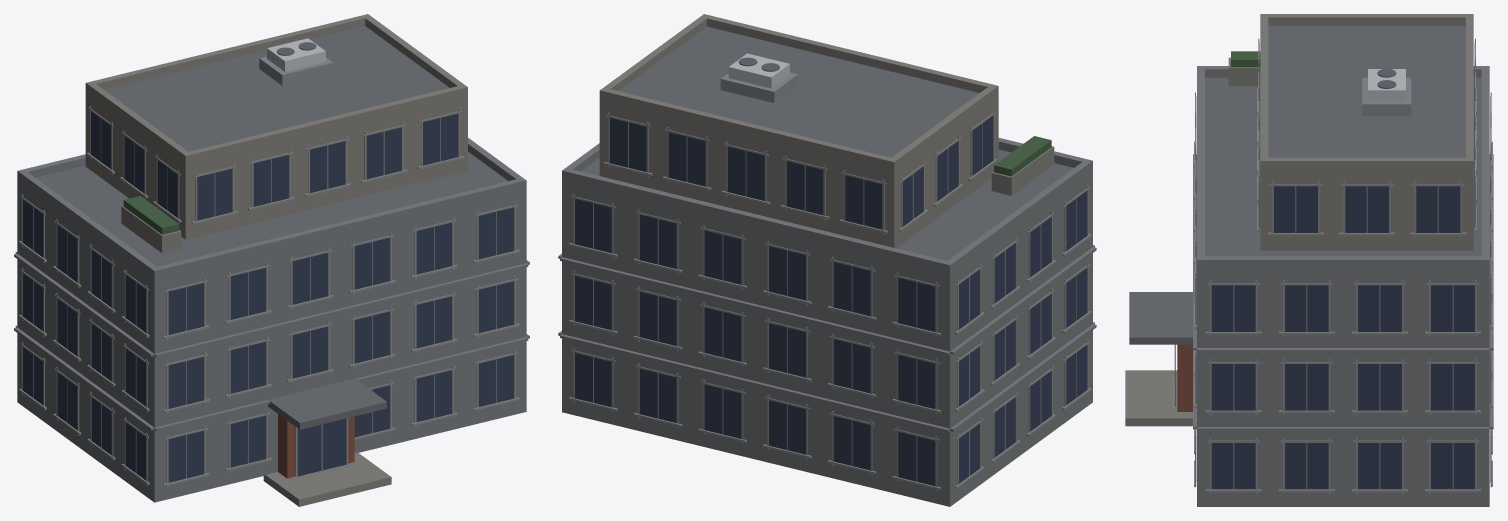
File: civic_office_lvl2.glb
3 renders of one model, left to right at view 1: azimuth 30°, elevation 25°; view 2: azimuth 150°, elevation 25°; view 3: azimuth 270°, elevation 25°, orthographic. The views are drawn at different scales.
Parts seen in each view (by area): view 1: civic_office; view 2: civic_office; view 3: civic_office.
Part boxes in pixels (<box>): civic_office: <box>14,14,529,506</box>; civic_office: <box>558,14,1096,506</box>; civic_office: <box>1125,14,1493,506</box>.
Bounding box in the file's own units: 0.9078 × 0.7775 × 0.7168.
